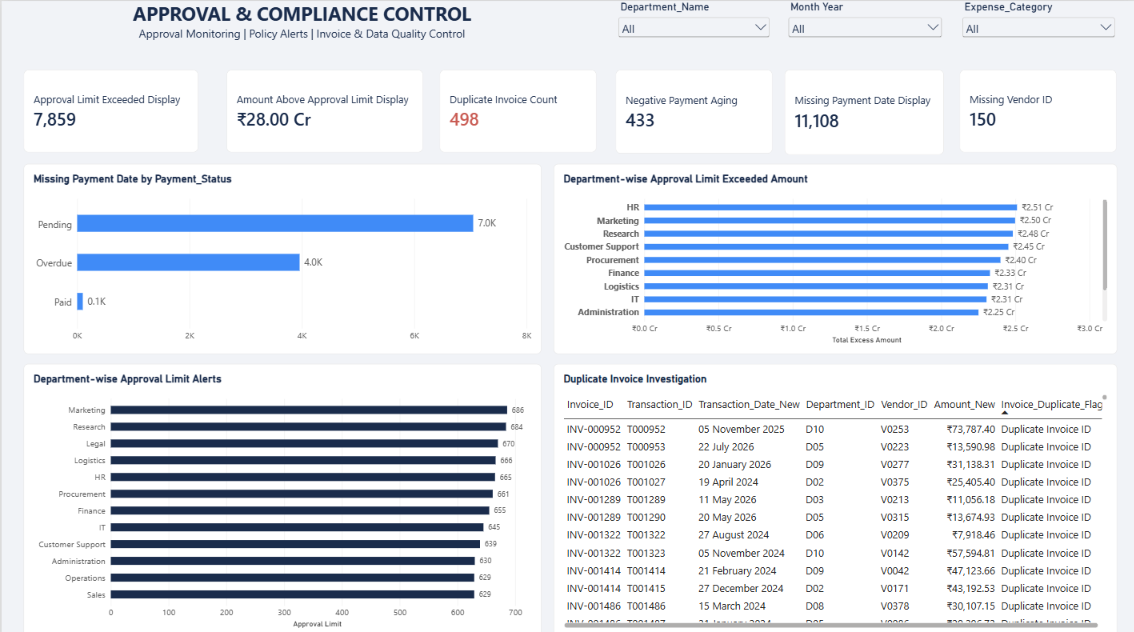

This screenshot's page, from the dashboard's own definition file:
{"tool":"powerbi","page":{"name":"4.\tApproval & Compliance","canvas":[1920,1080],"ordinal":3},"visuals":[{"type":"textbox","box":[10,0,998,88],"z":0},{"type":"cardVisual","fields":{"Data":["finance_mis cleaned_transactions.Approval Limit Exceeded Display"]},"box":[37,116.7,296.3,140.7],"z":1000},{"type":"cardVisual","fields":{"Data":["finance_mis cleaned_transactions.Amount Above Approval Limit Display"]},"box":[381.5,116.7,333.3,140.7],"z":2000},{"type":"clusteredBarChart","title":"Department-wise Approval Limit Alerts","fields":{"Category":["finance_mis cleaned_departments.Department_Name"],"Y":["finance_mis cleaned_transactions.Approval Alerts by Department"]},"box":[37,614.8,877.8,464.8],"z":3000},{"type":"cardVisual","fields":{"Data":["finance_mis cleaned_transactions.Duplicate Invoice Count"]},"box":[742.6,116.7,266.7,140.7],"z":4000},{"type":"tableEx","title":"Duplicate Invoice Investigation","fields":{"Values":["finance_mis cleaned_transactions.Invoice_ID","finance_mis cleaned_transactions.Transaction_ID","finance_mis cleaned_transactions.Transaction_Date_New","finance_mis cleaned_transactions.Department_ID","finance_mis cleaned_transactions.Vendor_ID","finance_mis cleaned_transactions.Amount_New","finance_mis cleaned_transactions.Invoice_Duplicate_Flag"]},"box":[935.2,614.8,955.6,464.8],"z":5000},{"type":"cardVisual","fields":{"Data":["finance_mis cleaned_transactions.Missing Vendor ID"]},"box":[1624.1,116.7,266.7,140.7],"z":6000},{"type":"cardVisual","fields":{"Data":["finance_mis cleaned_transactions.Missing Payment Date Display"]},"box":[1327.8,116.7,270.4,144.4],"z":7000},{"type":"cardVisual","fields":{"Data":["finance_mis cleaned_transactions.Negative Payment Aging"]},"box":[1040.7,116.7,266.7,142.6],"z":8000},{"type":"clusteredBarChart","fields":{"Category":["finance_mis cleaned_transactions.Payment_Status"],"Y":["finance_mis cleaned_transactions.Missing Payment Date"]},"box":[37,275.9,877.8,322.2],"z":9000},{"type":"clusteredBarChart","title":"Department-wise Approval Limit Exceeded Amount","fields":{"Category":["finance_mis cleaned_departments.Department_Name"],"Y":["finance_mis cleaned_transactions.Amount Above Approval Limit Cr"]},"box":[935.2,275.9,955.6,322.2],"z":10000},{"type":"slicer","fields":{"Values":["finance_mis cleaned_departments.Department_Name"]},"box":[1040,0,266,102],"z":10001},{"type":"slicer","fields":{"Values":["Calendar.Month Year"]},"box":[1328,0,270,102],"z":10002},{"type":"slicer","fields":{"Values":["Dim_Expense_Category.Expense_Category"]},"box":[1624,0,268,102],"z":10003}]}

Visuals, with their boxes in screenshot pixels (x1, y1, x2, y2), scaled from the page's 1920x1080 canvas onto the 1134x632 screenshot:
textbox: [6,0,595,51]
cardVisual - finance_mis cleaned_transactions.Approval Limit Exceeded Display: [22,68,197,151]
cardVisual - finance_mis cleaned_transactions.Amount Above Approval Limit Display: [225,68,422,151]
"Department-wise Approval Limit Alerts" clusteredBarChart: [22,360,540,631]
cardVisual - finance_mis cleaned_transactions.Duplicate Invoice Count: [439,68,596,151]
"Duplicate Invoice Investigation" tableEx: [552,360,1117,631]
cardVisual - finance_mis cleaned_transactions.Missing Vendor ID: [959,68,1117,151]
cardVisual - finance_mis cleaned_transactions.Missing Payment Date Display: [784,68,944,153]
cardVisual - finance_mis cleaned_transactions.Negative Payment Aging: [615,68,772,152]
clusteredBarChart - finance_mis cleaned_transactions.Payment_Status x finance_mis cleaned_transactions.Missing Payment Date: [22,161,540,350]
"Department-wise Approval Limit Exceeded Amount" clusteredBarChart: [552,161,1117,350]
slicer - finance_mis cleaned_departments.Department_Name: [614,0,771,60]
slicer - Calendar.Month Year: [784,0,944,60]
slicer - Dim_Expense_Category.Expense_Category: [959,0,1117,60]
